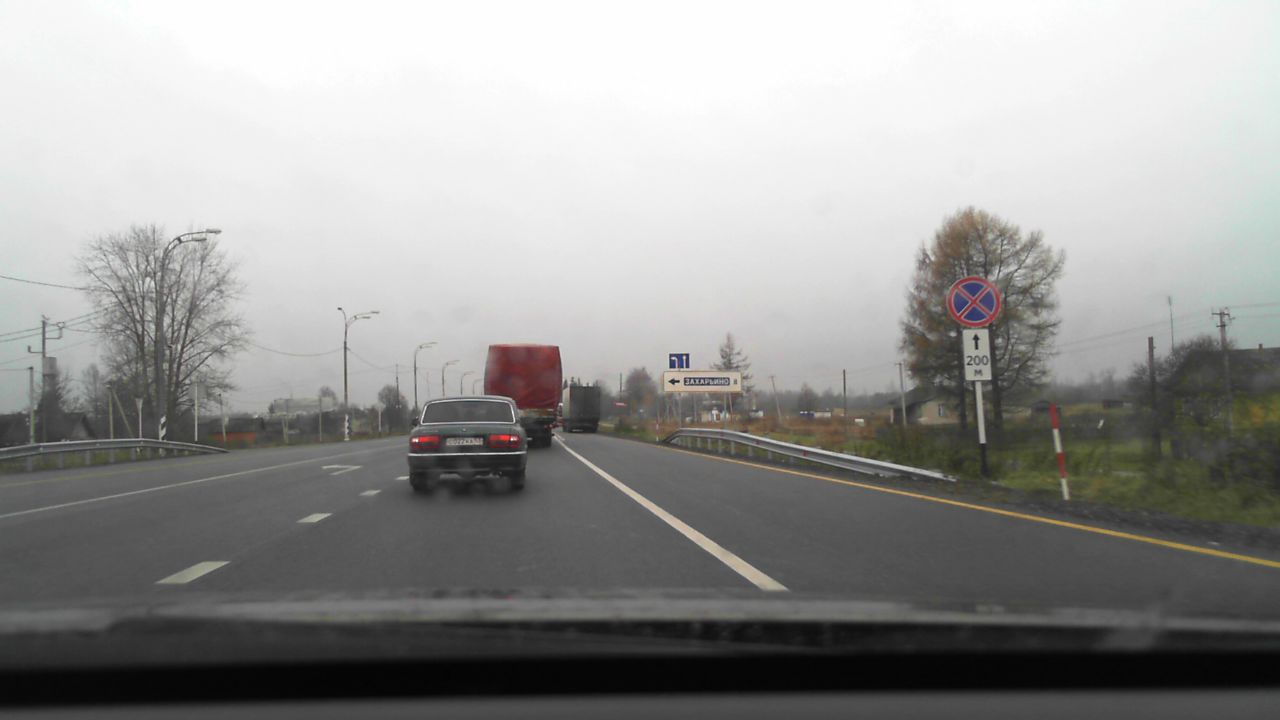No Parking: (946, 276, 1001, 327)
